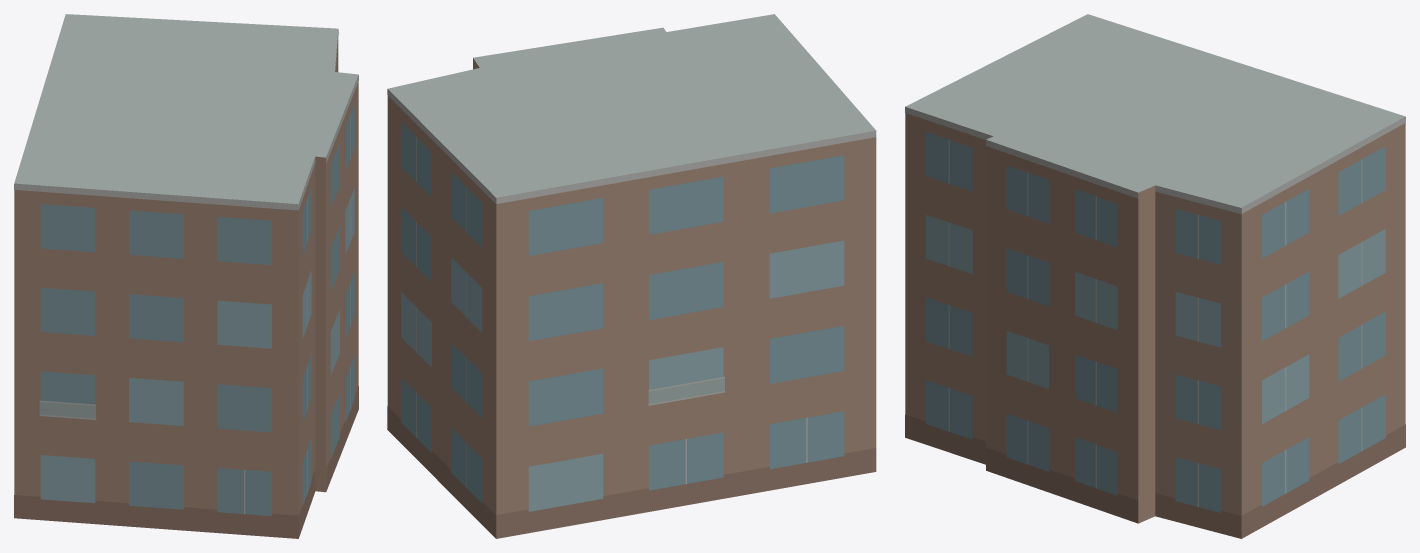
Rendered from survey-upis-32622094.glb.
3 views of the same model, side by side, from view 1: azimuth 30°, elevation 25°; view 2: azimuth 150°, elevation 25°; view 3: azimuth 270°, elevation 25° (orthographic). The views are drawn at different scales.
Parts seen in each view (by area): view 1: survey-upis-32622094.tmp; view 2: survey-upis-32622094.tmp; view 3: survey-upis-32622094.tmp.
Boxes of the visible parts, box(x1,y1,x2,y2) form: survey-upis-32622094.tmp: box(14, 14, 358, 538); survey-upis-32622094.tmp: box(387, 14, 876, 538); survey-upis-32622094.tmp: box(905, 14, 1405, 538).
Bounding box in the file's own units: 16.35 × 13 × 17.83.
